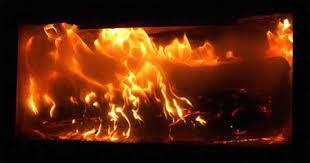fire: (29, 20, 203, 140), (266, 15, 293, 66)
